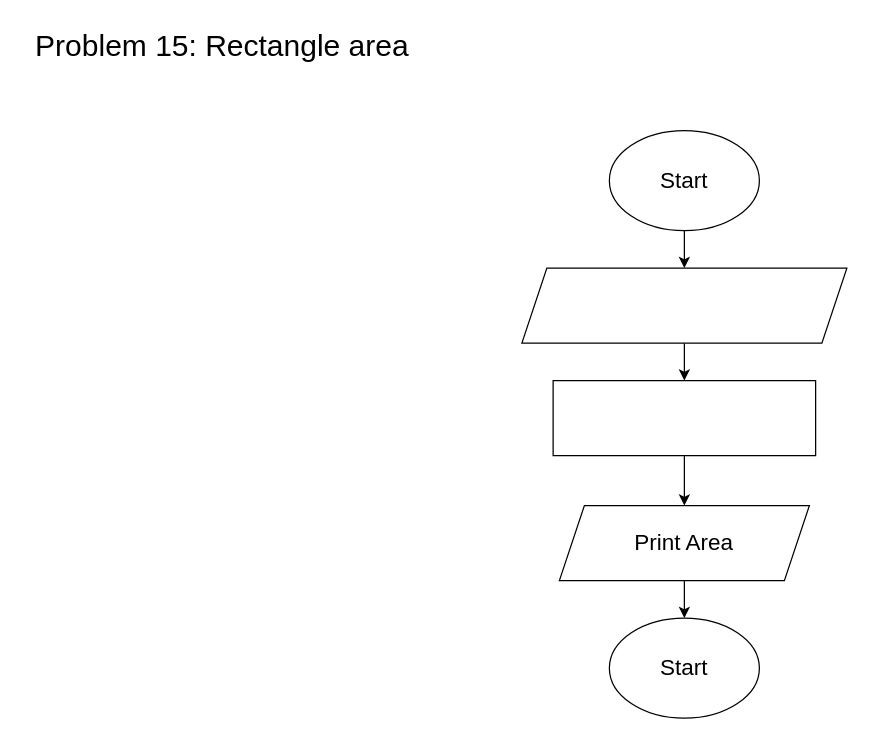
Image size: 869x740. Some labels were removed from this diagram. The centre of each missing label's shape, as x and y in pixels:
"Area = Length * width" belongs at pixel 684 417.
"Read Length, Width" belongs at pixel 684 305.
